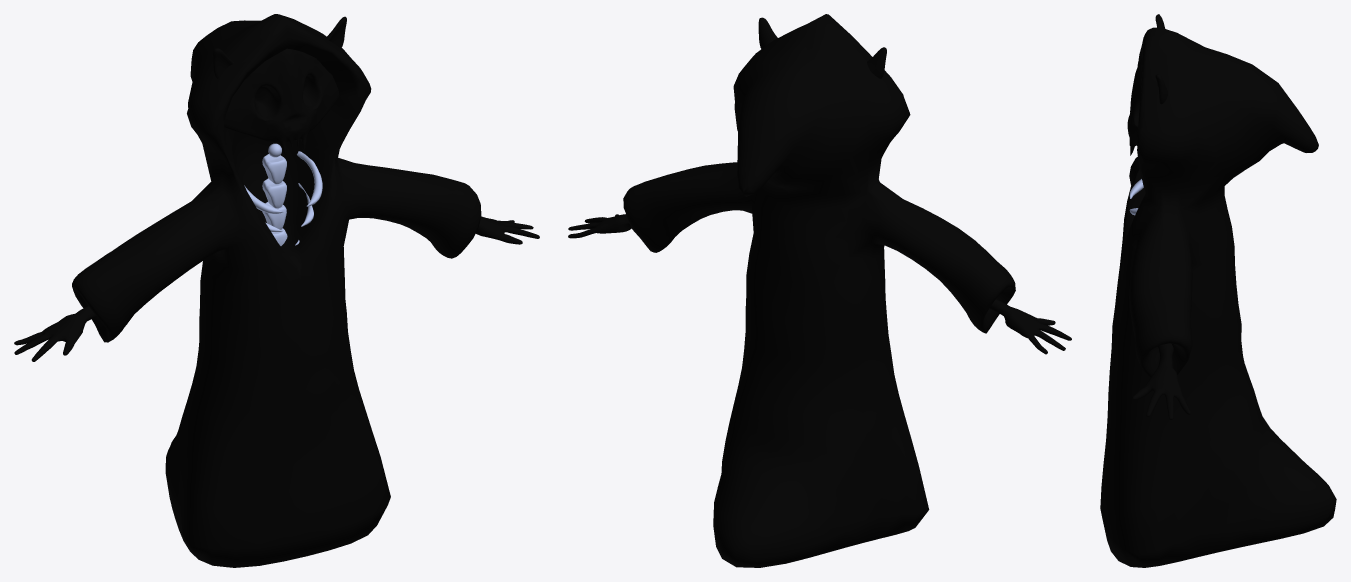
File: Cat.fbx
3 renders of one model, left to right at view 1: azimuth 30°, elevation 25°; view 2: azimuth 150°, elevation 25°; view 3: azimuth 270°, elevation 25°, orthographic. The views are drawn at different scales.
Visible parts, largest first — view 1: Cat; view 2: Cat; view 3: Cat.
Part boxes in pixels (x1,y1,x2,y2): Cat: (14,14,539,567); Cat: (568,14,1071,567); Cat: (1100,14,1336,567).
Bounding box in the file's own units: 2.91 × 2.8 × 1.19.
